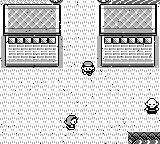captura: (112, 0, 159, 4), (136, 140, 160, 143)
main: (145, 99, 159, 114), (81, 62, 95, 75)
mo: (128, 132, 160, 143)
no-caminable: (100, 5, 157, 67), (4, 4, 60, 67), (48, 0, 63, 3), (97, 0, 112, 3)
npc: (64, 115, 78, 130)
